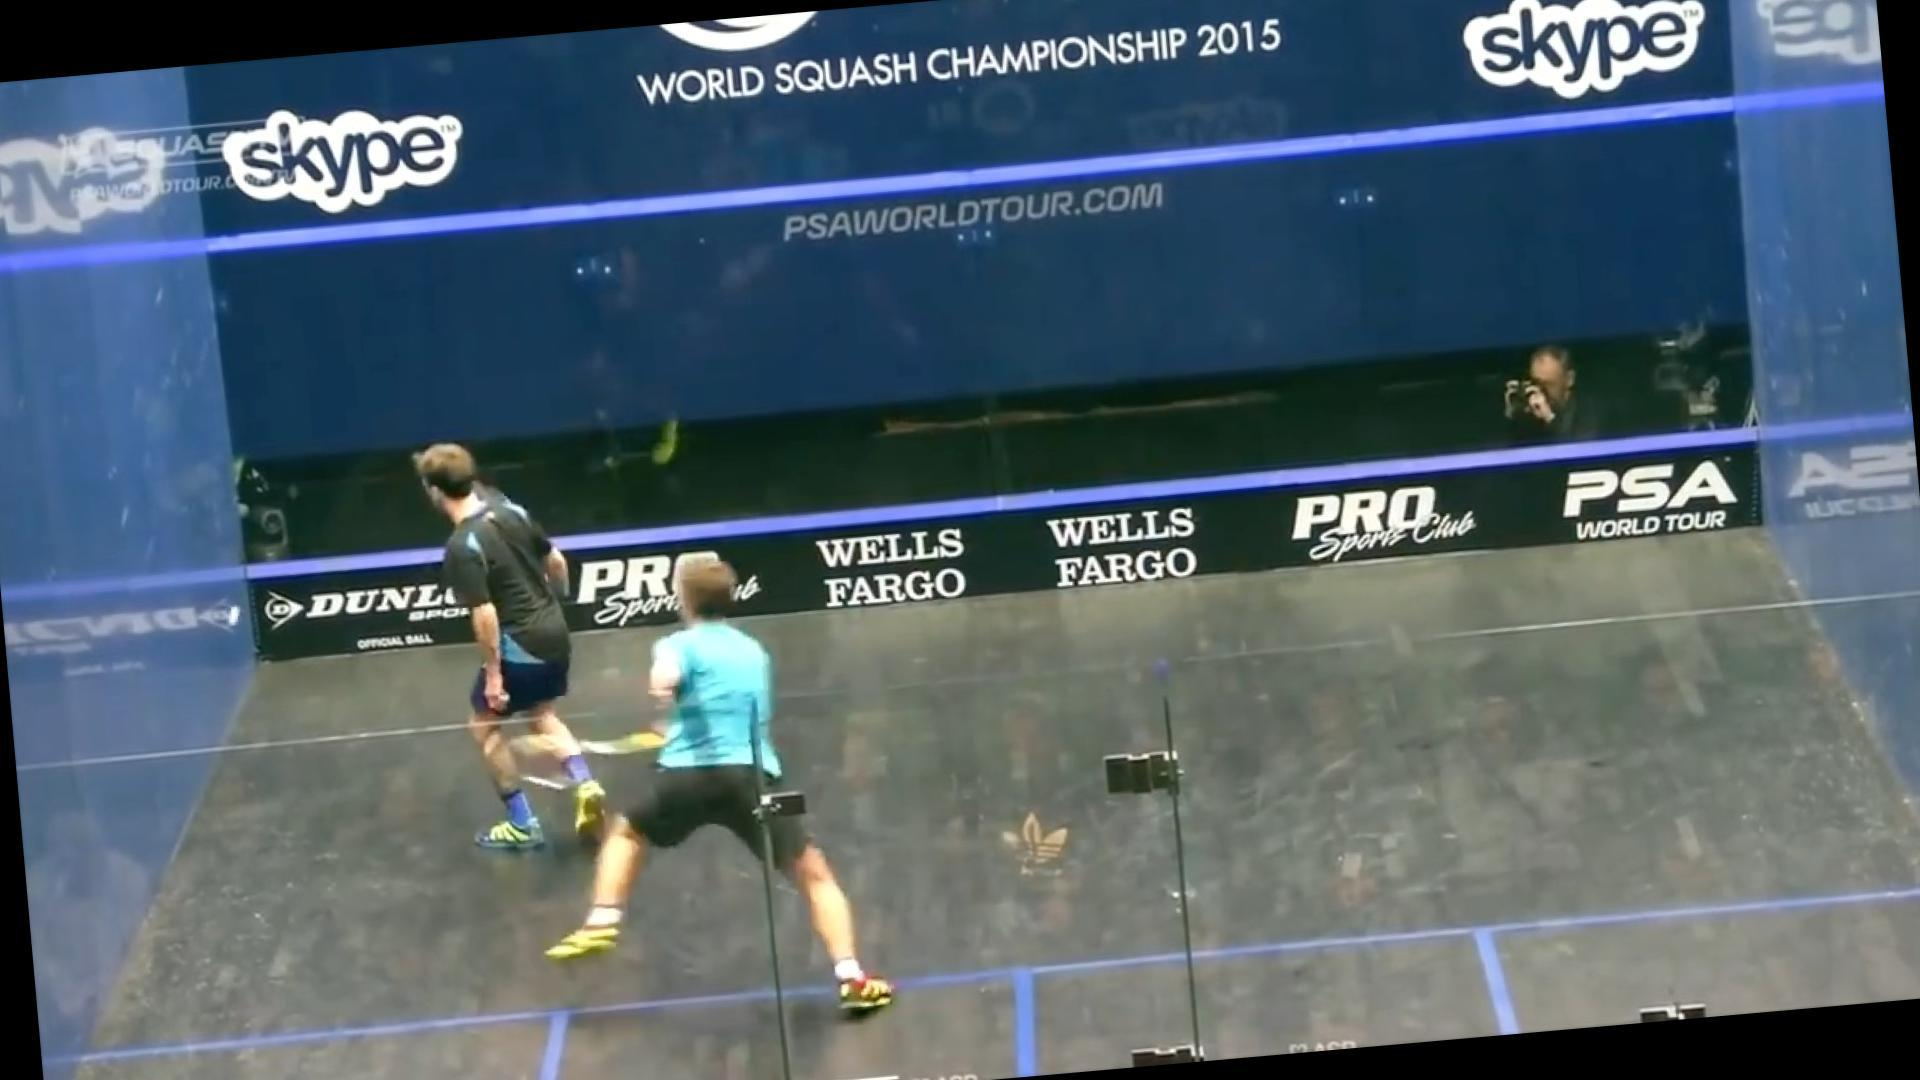Squash-Ball: (211, 587, 256, 642)
